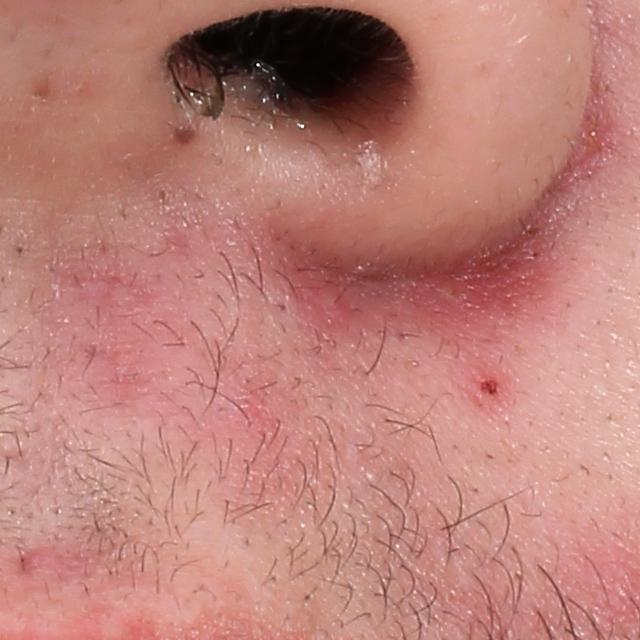comedo: (154, 184, 172, 204)
nevus: (171, 118, 198, 145)
papule: (19, 545, 49, 573)
